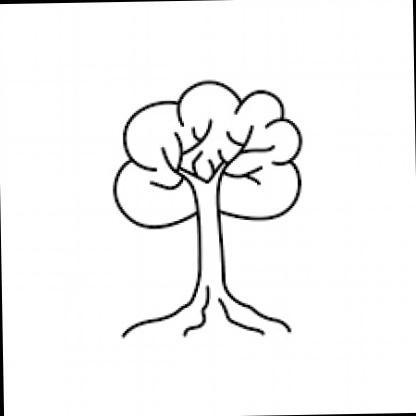branch_cut: (172, 158, 232, 196)
crown_cloud: (107, 78, 304, 230)
root_only: (116, 290, 296, 343)
trunk_straight: (191, 224, 232, 285)
